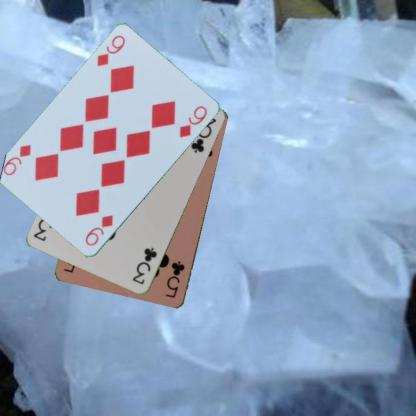3c: (130, 245, 158, 286)
5c: (163, 258, 186, 300)
9d: (94, 32, 127, 68), (82, 212, 114, 248)
